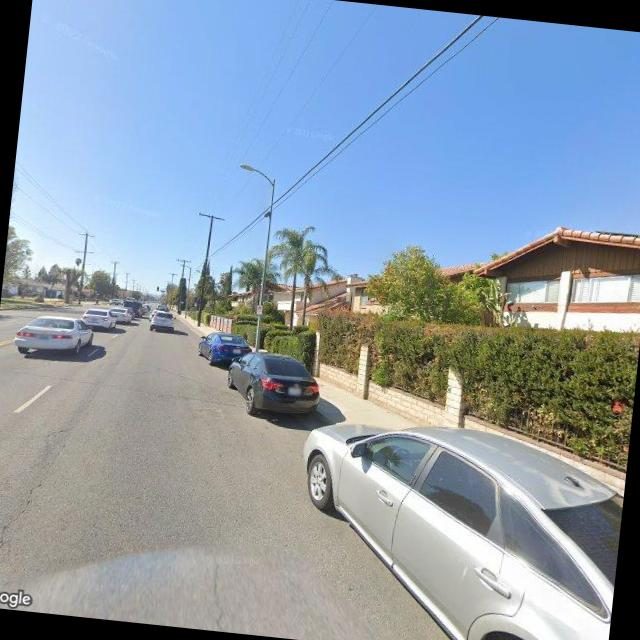pothole: (0, 404, 81, 590)
